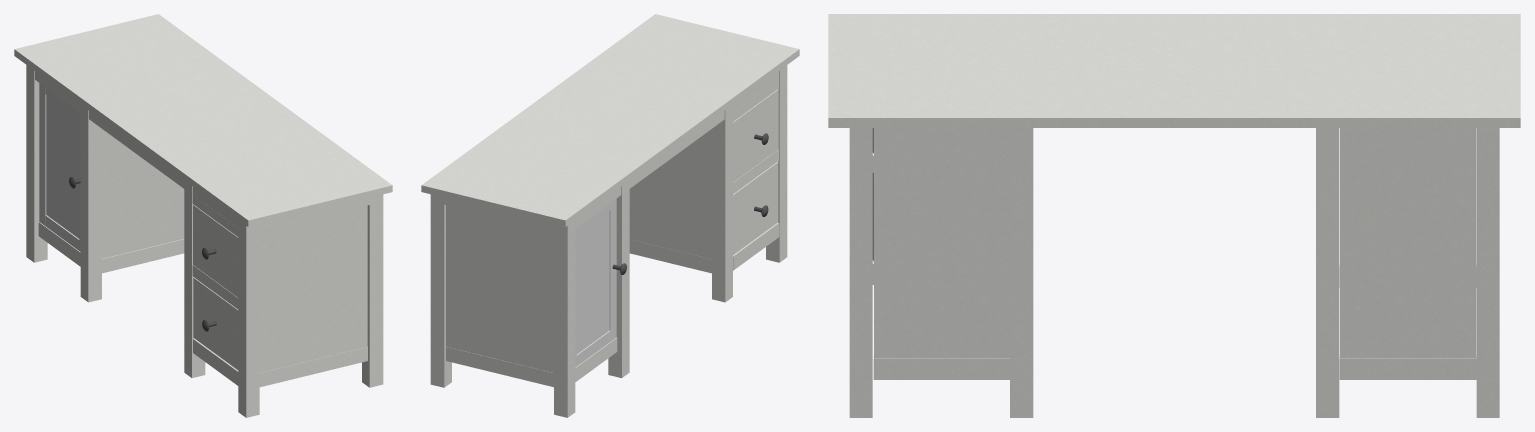
3 views of the same model, side by side, from view 1: azimuth 30°, elevation 25°; view 2: azimuth 150°, elevation 25°; view 3: azimuth 270°, elevation 25° (orthographic). The views are drawn at different scales.
Visible parts, largest first — view 1: Table _Table Morilka_0, Table Left Door, Table Left Door.002, Table Left Door.003; view 2: Table _Table Morilka_0, Table Left Door, Table Left Door.002, Table Left Door.003; view 3: Table _Table Morilka_0.
Boxes of the visible parts, x1=… form: Table _Table Morilka_0: x1=14, y1=14, x2=392, y2=417; Table Left Door: x1=39, y1=83, x2=80, y2=251; Table Left Door.002: x1=193, y1=277, x2=238, y2=369; Table Left Door.003: x1=193, y1=204, x2=238, y2=297; Table _Table Morilka_0: x1=421, y1=14, x2=799, y2=417; Table Left Door: x1=575, y1=199, x2=616, y2=367; Table Left Door.002: x1=733, y1=162, x2=778, y2=254; Table Left Door.003: x1=733, y1=89, x2=778, y2=182; Table _Table Morilka_0: x1=828, y1=14, x2=1520, y2=417.
Bounding box in the file's own units: 57.76 × 74.5 × 155.
Materials: 4 (3 with a texture image).
